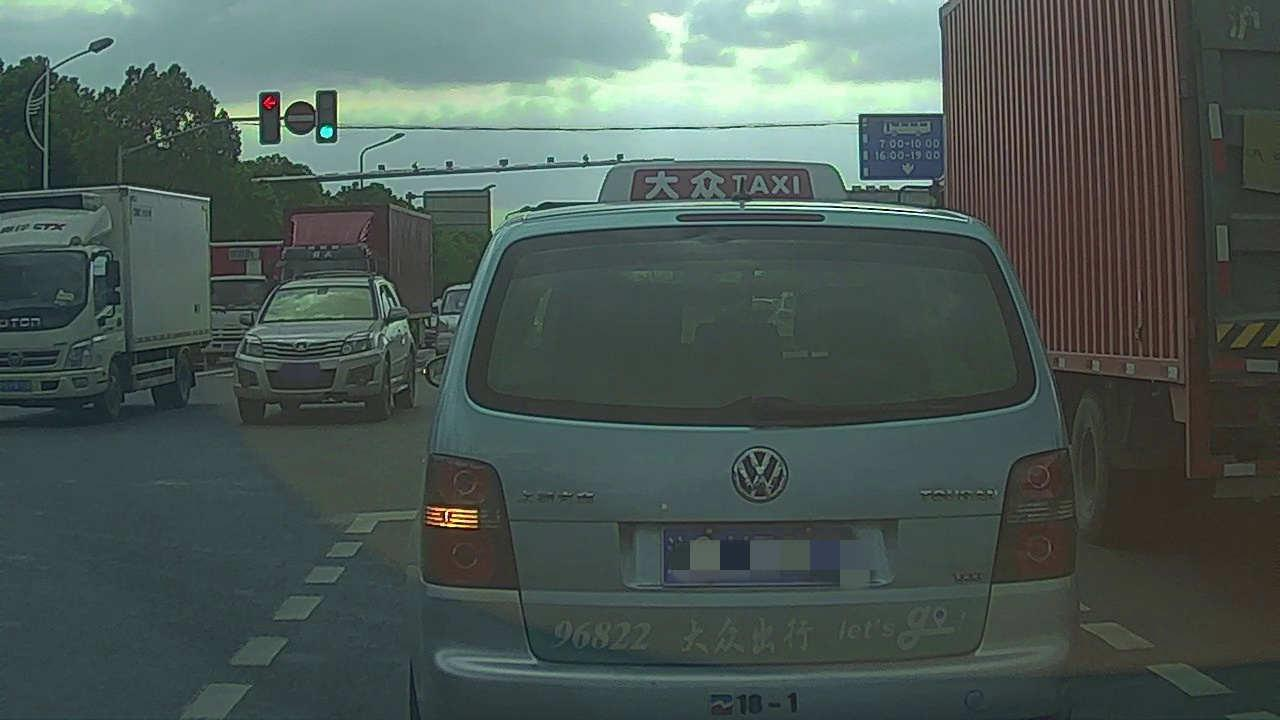traffic_light: (316, 93, 338, 141), (261, 92, 279, 144)
